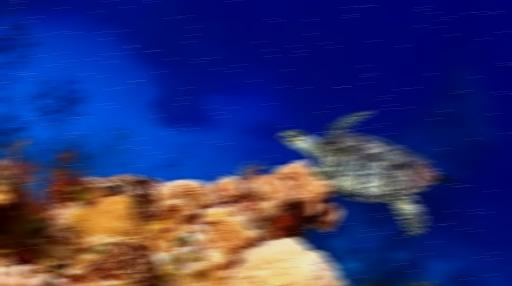Fish: (279, 110, 449, 236)
